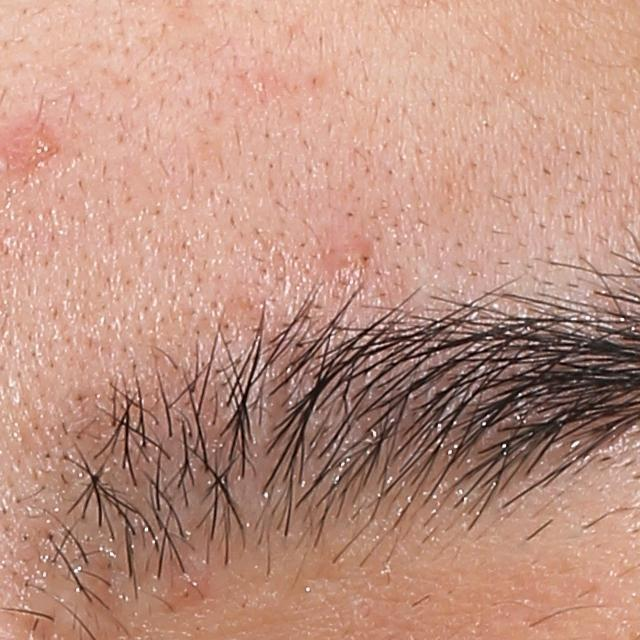papule: (325, 231, 375, 273), (168, 565, 211, 601)
